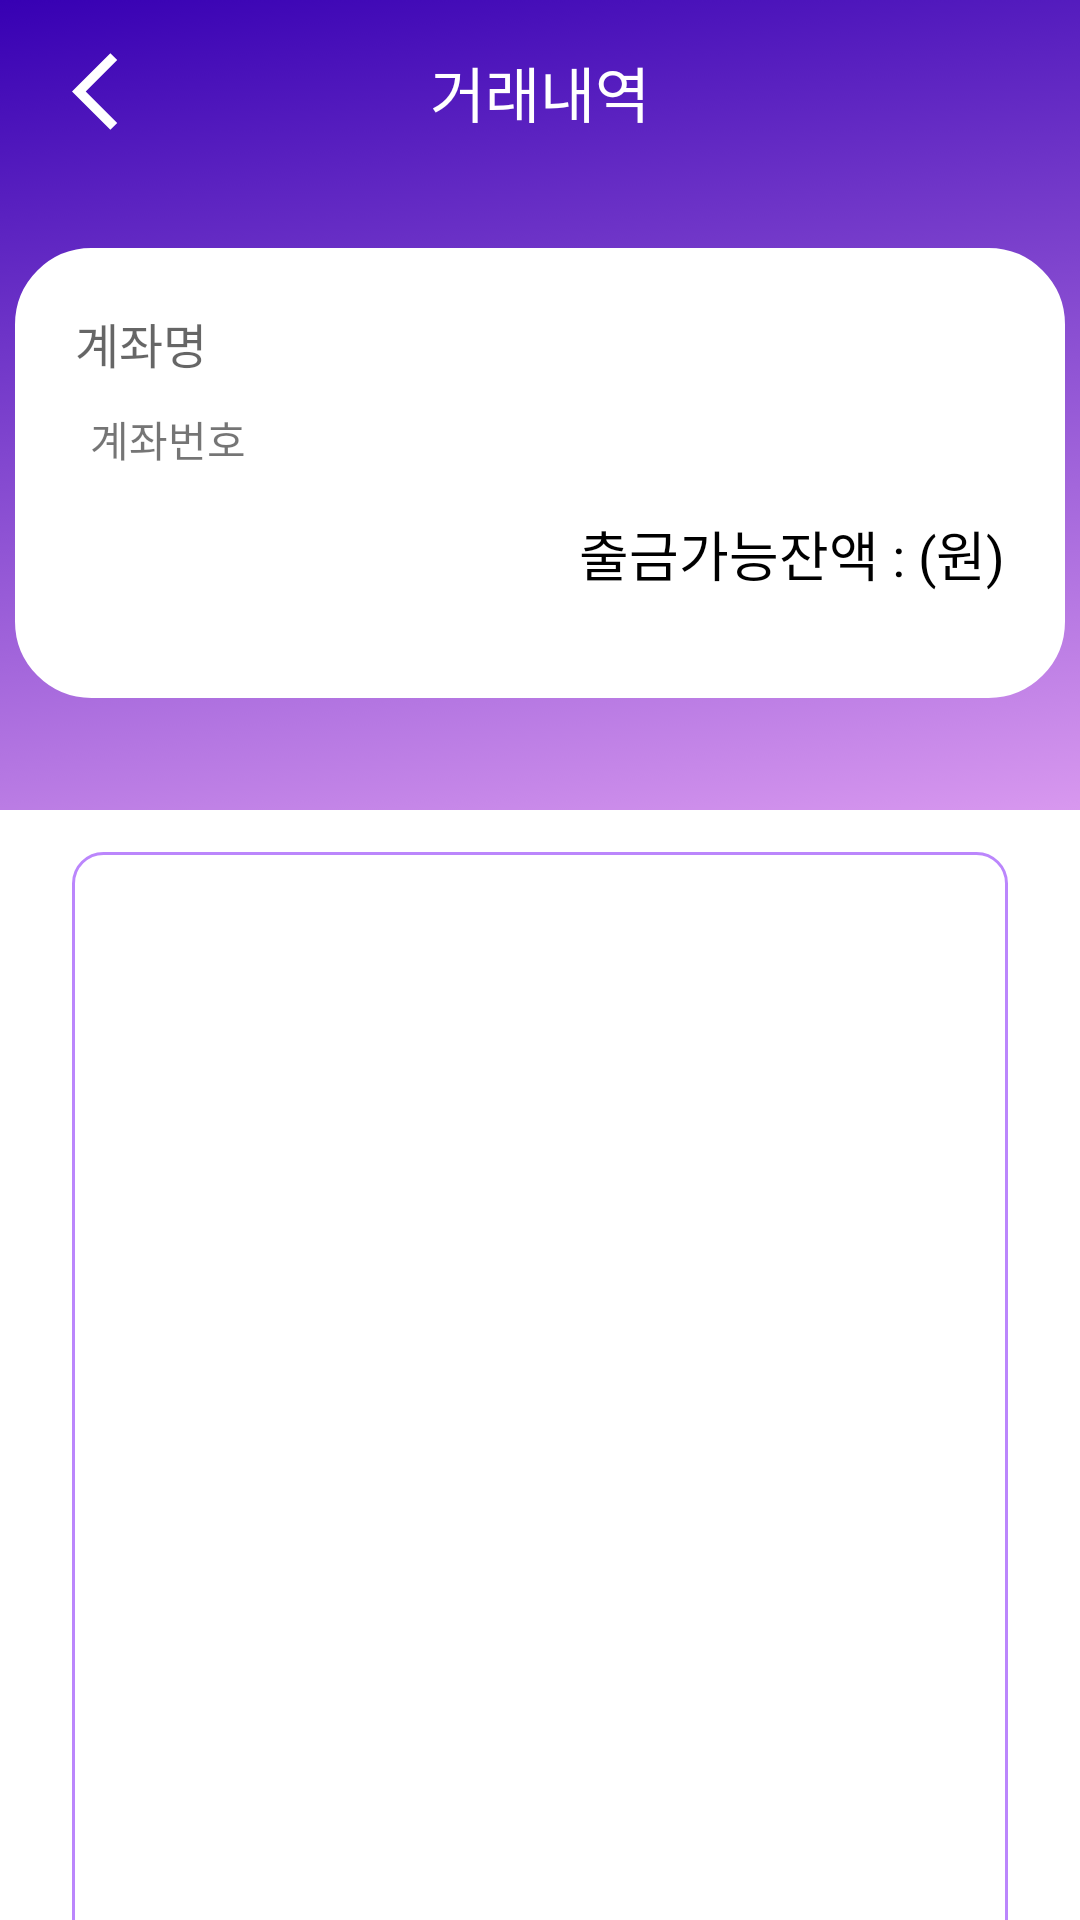

Icons on this 1080x1920 Android screen, each with its box as (x1, y1, x2, y2):
back: (72, 53, 117, 130)
